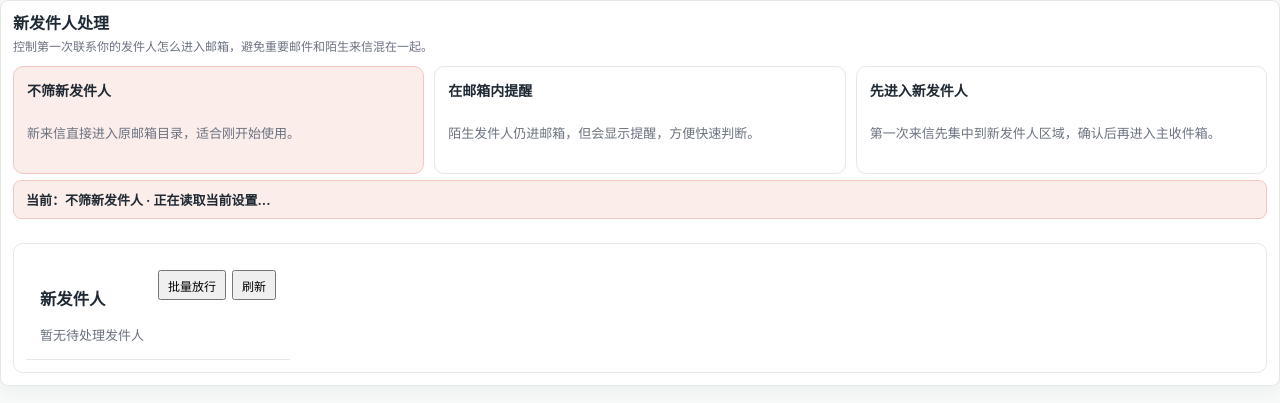
Test case: GatekeeperSettingsPanel › loads and saves new-sender handling
Expected: the heading "新发件人处理" is shown, [13,13,109,33]
Click the button "先进入新发件人 第一次来信先集中到新发件人区域，确认后再进入主收件箱。" at (919, 90), box [856,66,1267,174]
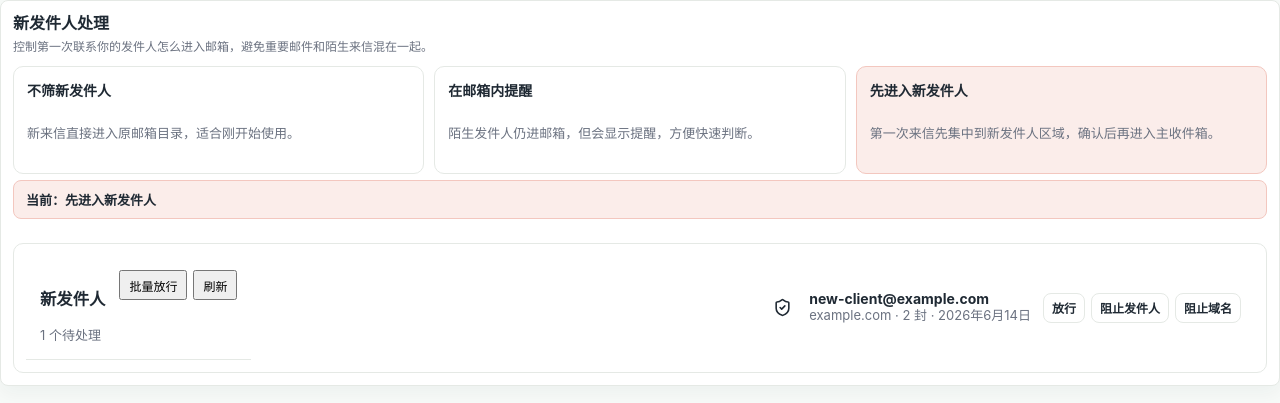
Now the text "当前：先进入新发件人" is shown, box [13,180,1267,219]
